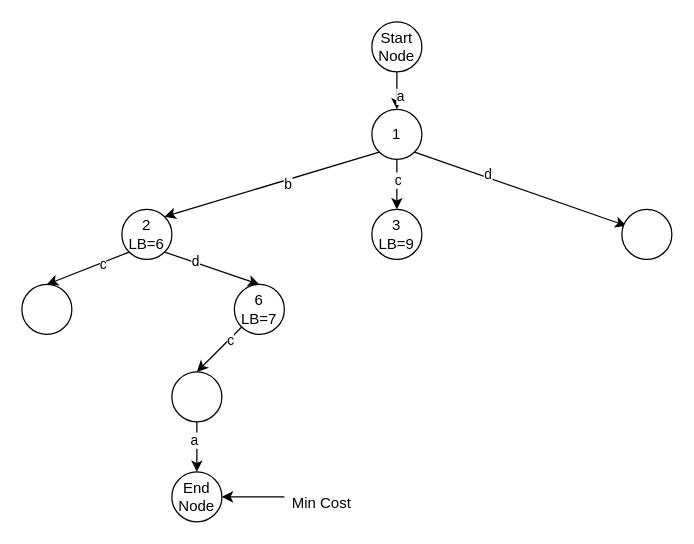
Some shapes in this 694 by 544 pixel diagram are drawn without their labels. The shapes that lost their labels are listed below. From the top down, each one's box as (x1, y1, x2, y2) in pixels, then its label:
(621, 208, 672, 259): 4 LB=11
(21, 283, 72, 334): 5 LB=12
(171, 371, 222, 422): 7 CO=6
